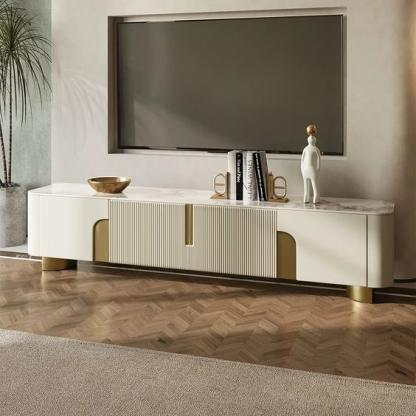Sideboard: (27, 184, 395, 302)
